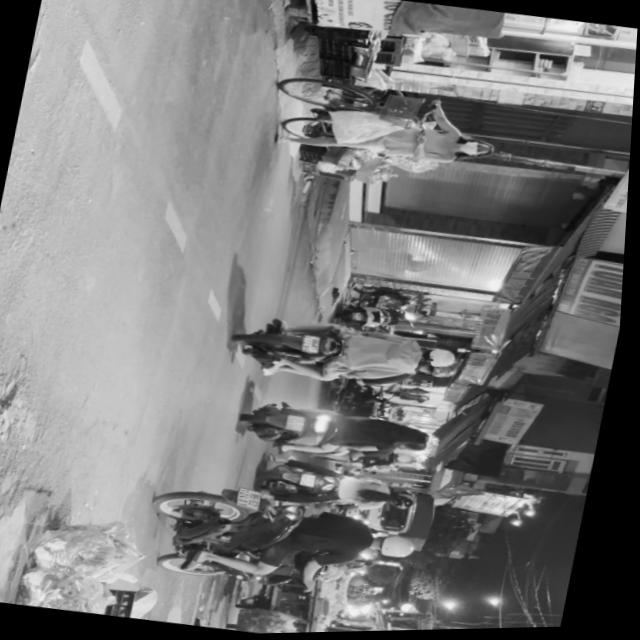helmet: (379, 532, 425, 561), (426, 346, 464, 370), (427, 362, 461, 380)
licenseplate: (147, 474, 434, 607), (233, 306, 469, 402), (240, 391, 453, 472)
nohelmet: (243, 488, 270, 512), (306, 336, 327, 354), (292, 415, 312, 433)
